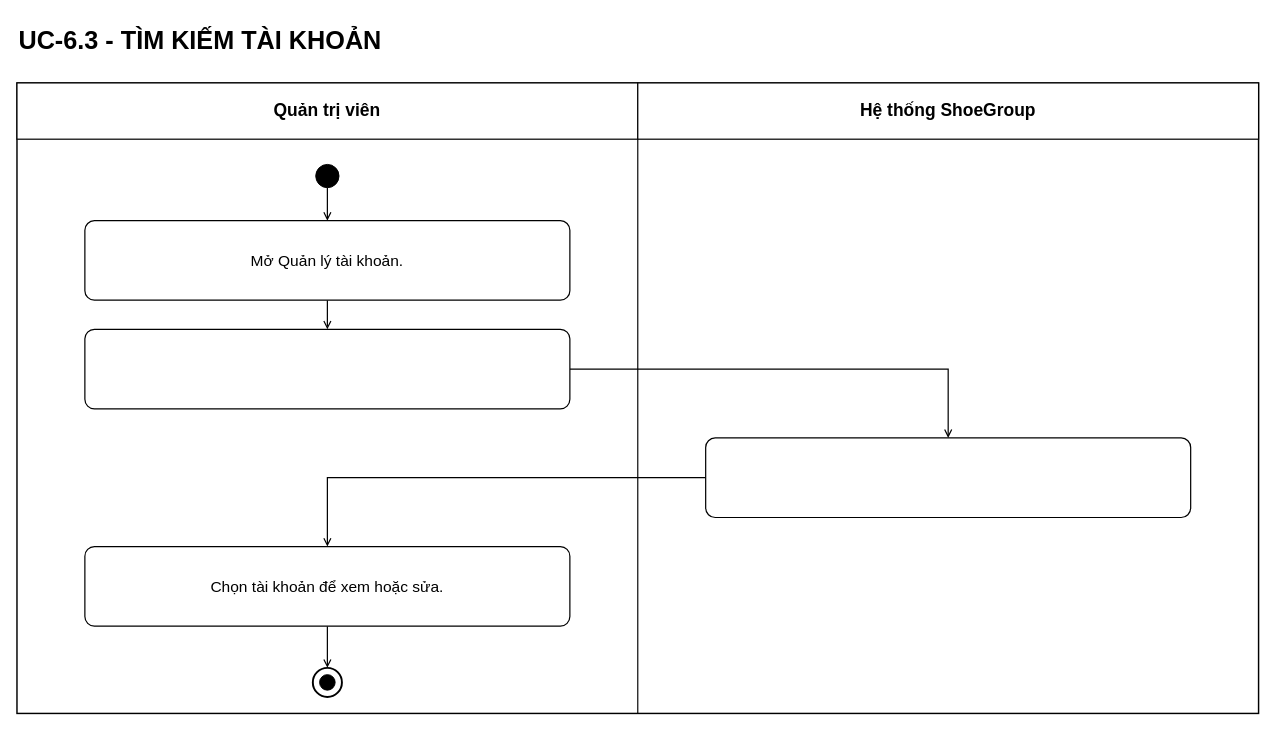
Image size: 1277x731. Some labels were removed from this diagram. Here are the shapes that lost their labels. From the top down, the centre of each, then its label:
point (327, 368): Nhập từ khóa/lọc vai trò hoặc trạng thái.
point (948, 477): Giao diện lọc danh sách tải từ API.
